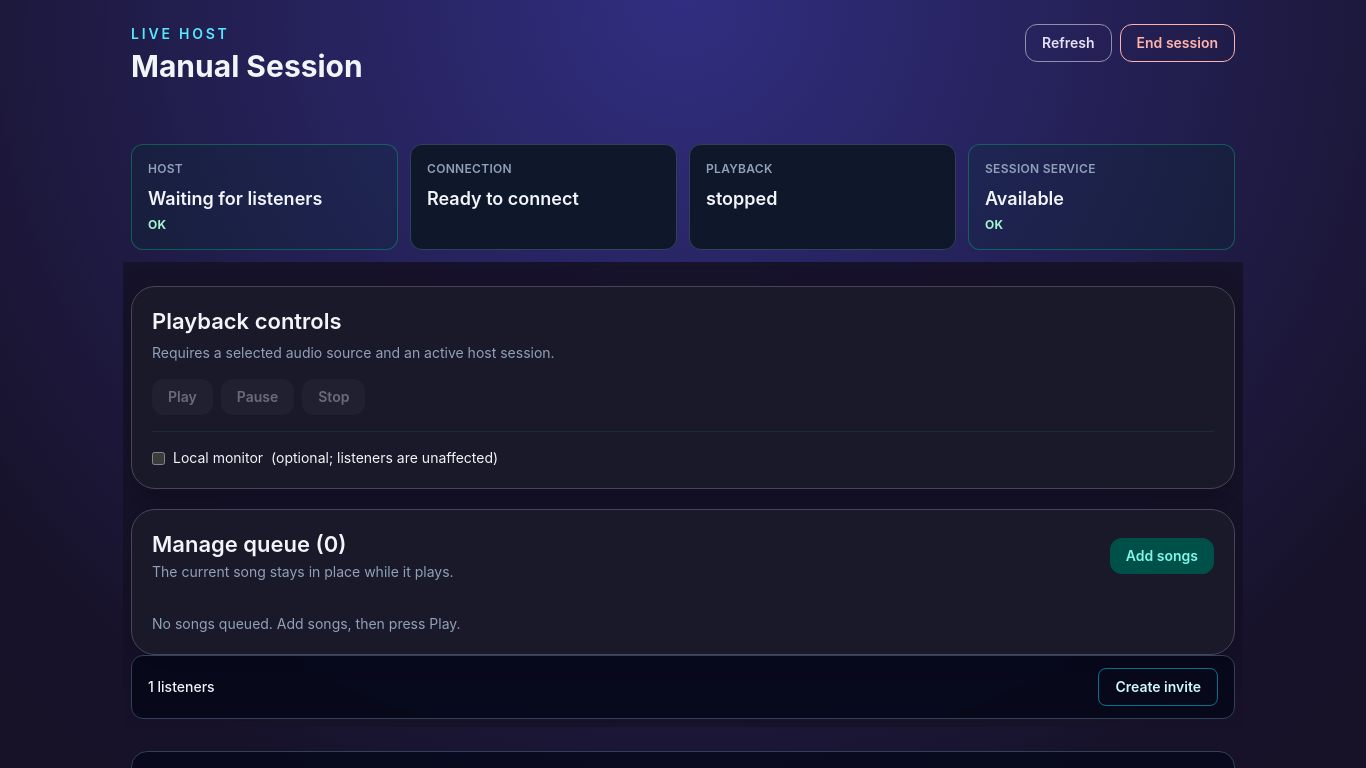
Scenario: HostSessionScreen Block 23 › keeps End session pending while playback shutdown reports an intermediate ready state
The image size is (1366, 768).
Step 1. Click the button "End session" → (1177, 43), box [1120, 24, 1235, 62]
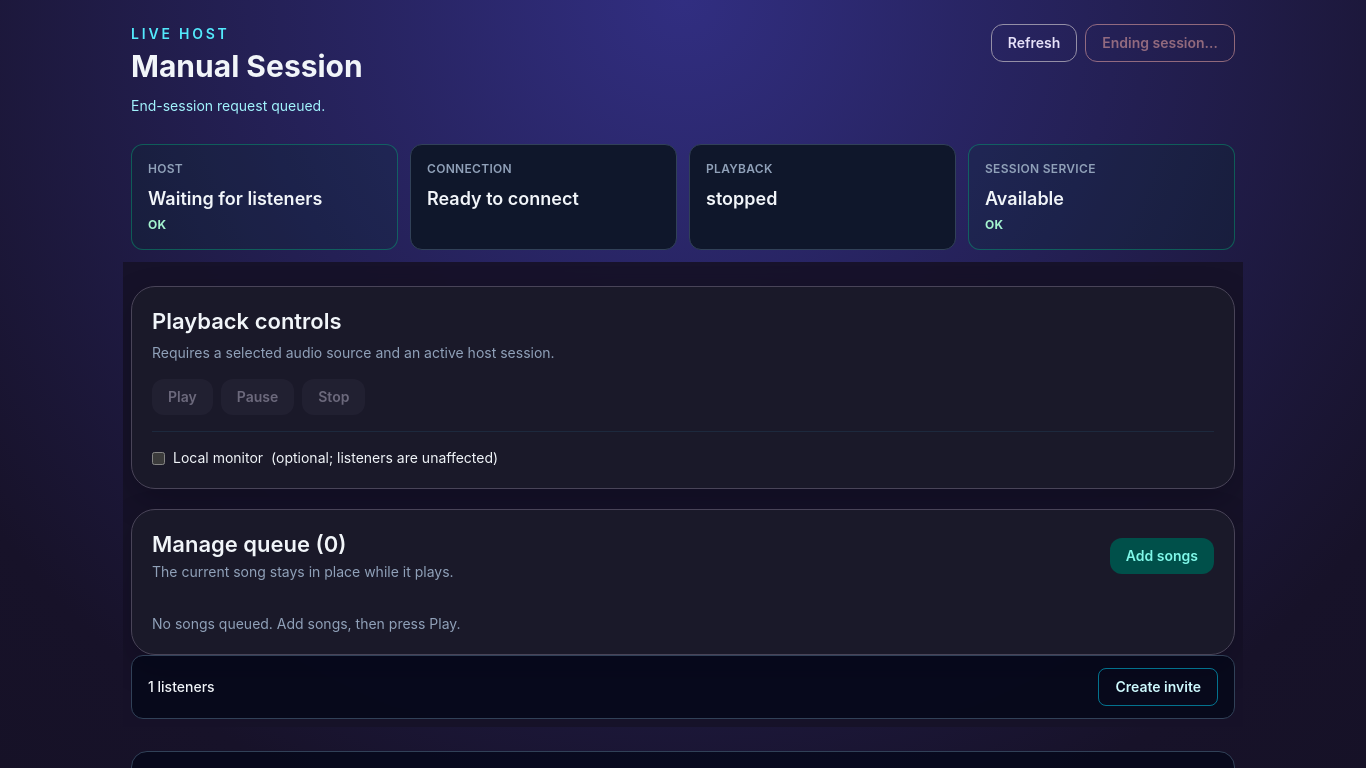
Step 2. Click the button "Refresh" → (1034, 43), box [991, 24, 1077, 62]
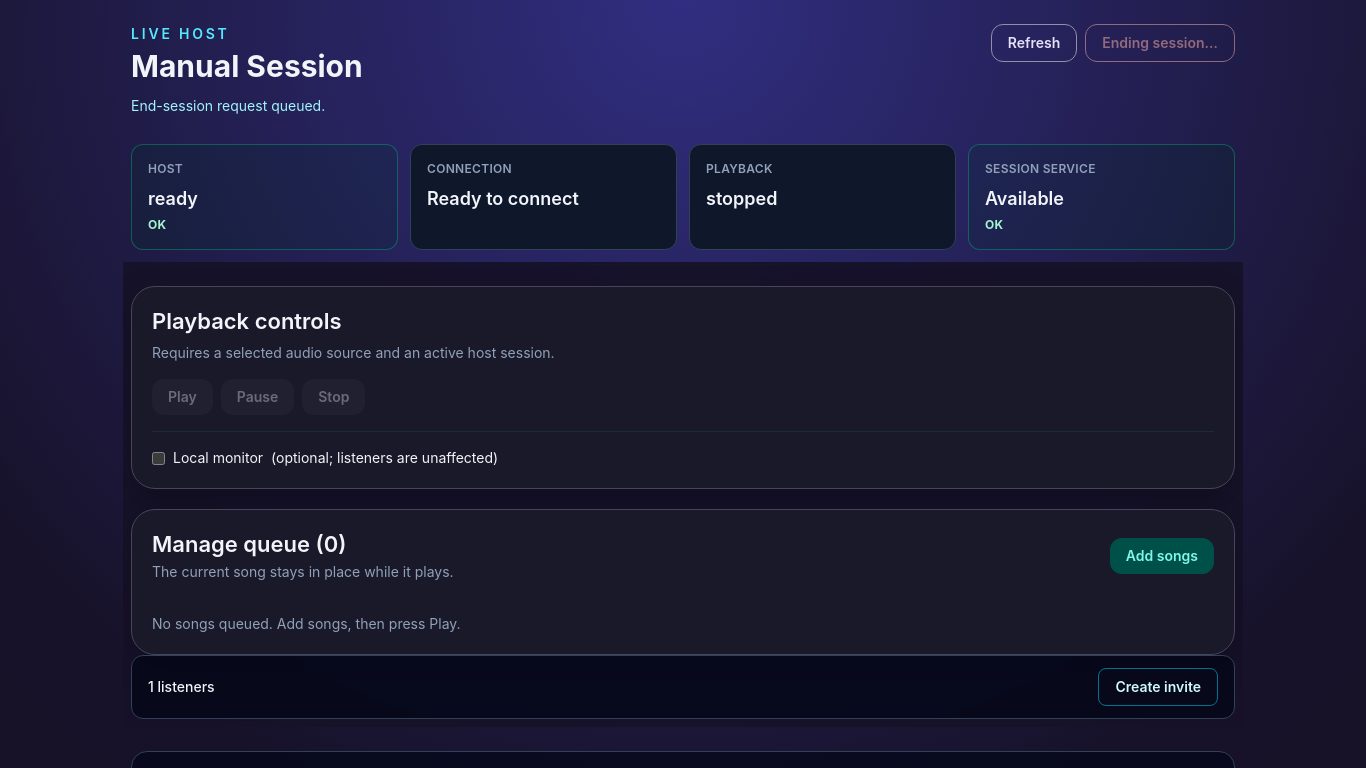
Result: the button "Ending session…" is disabled at [1085, 24, 1235, 62]
Step 3. Click the button "Refresh" → (1034, 43), box [991, 24, 1077, 62]
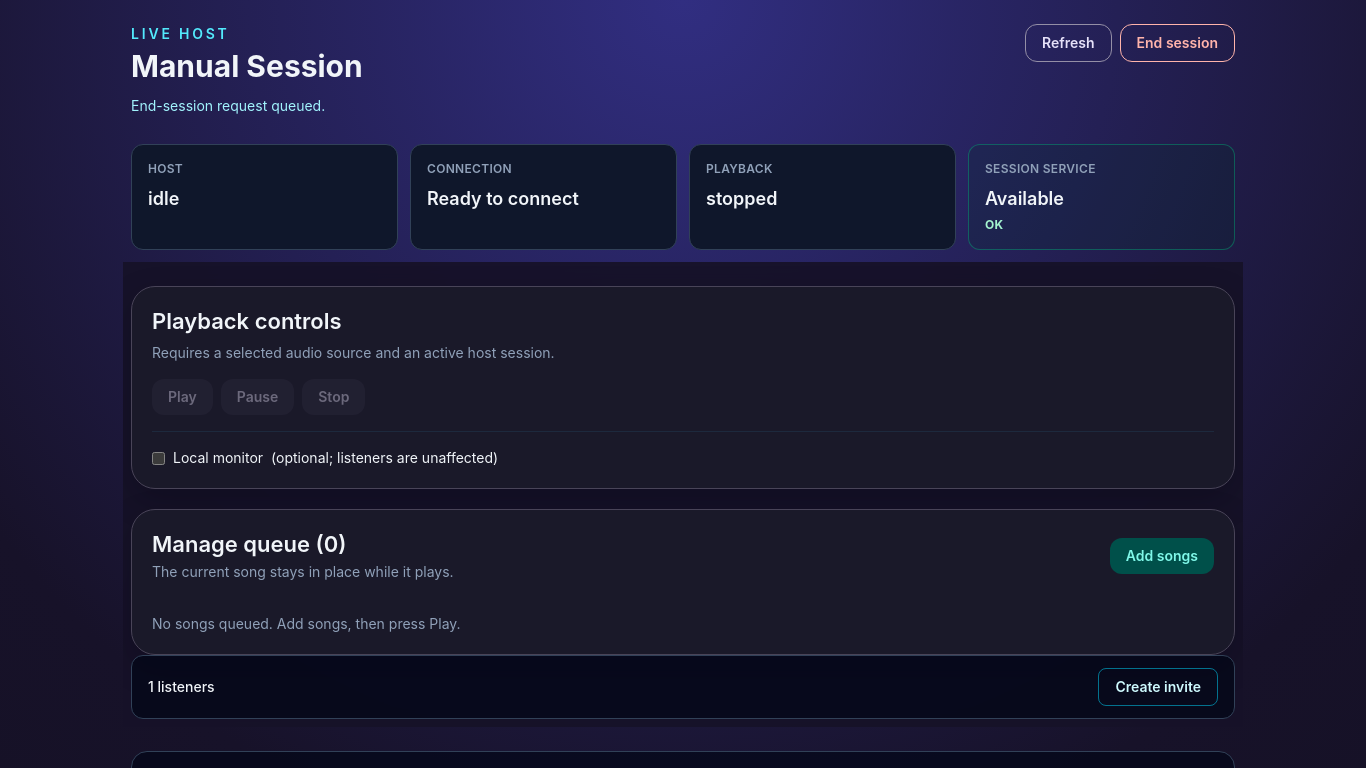
Result: the button "End session" is enabled at [1120, 24, 1235, 62]
